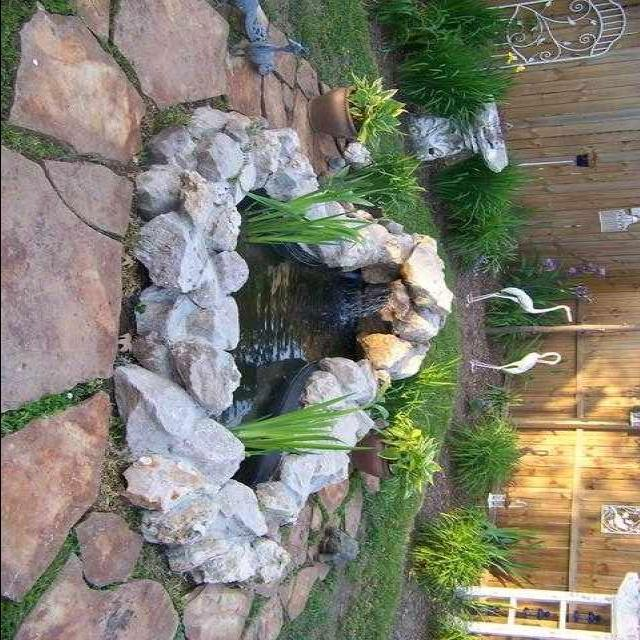egret: (462, 281, 582, 329), (466, 346, 572, 390)
